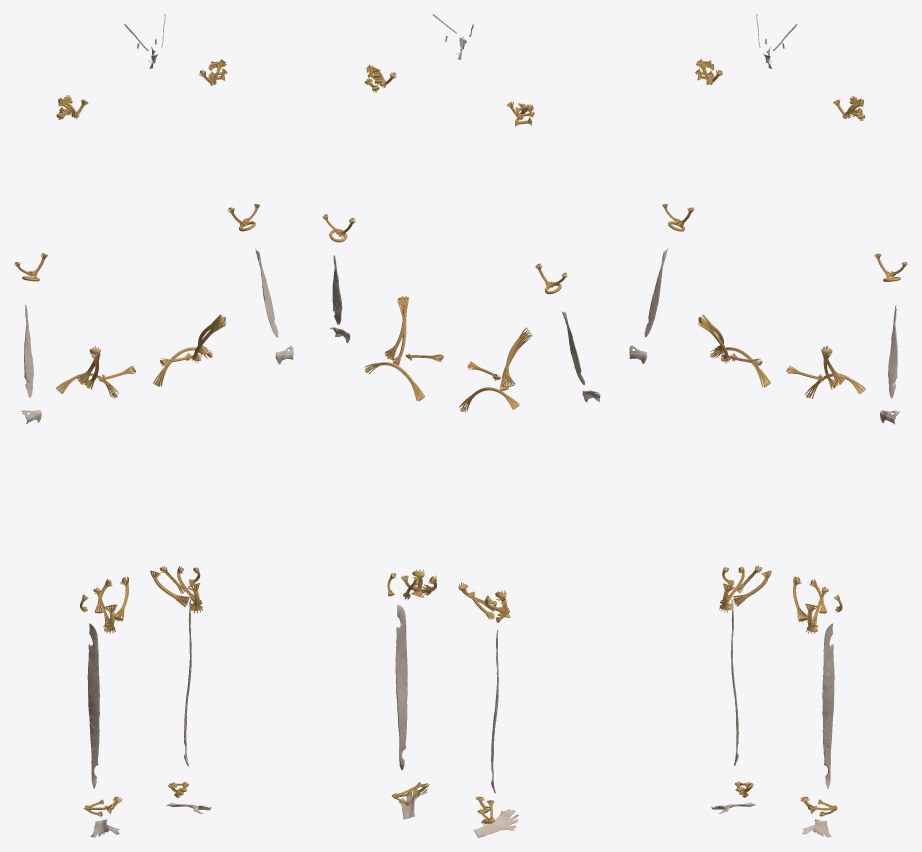
The model's file is ligaments.glb.
3 views of the same model, side by side, from view 1: azimuth 30°, elevation 25°; view 2: azimuth 150°, elevation 25°; view 3: azimuth 330°, elevation 25° (orthographic).
Parts seen in each view (by area): view 1: membrane-interosseuse-jambe-d, membrane-interosseuse-avant-bras-d; view 2: membrane-interosseuse-jambe-g, plantaire-long-d; view 3: membrane-interosseuse-jambe-g, membrane-interosseuse-avant-bras-g.
Part boxes in pixels (left/top/right/bottom): membrane-interosseuse-jambe-d: left=87, top=623, right=99, bottom=788; membrane-interosseuse-avant-bras-d: left=24, top=304, right=33, bottom=397; membrane-interosseuse-jambe-g: left=395, top=604, right=407, bottom=770; plantaire-long-d: left=474, top=809, right=518, bottom=837; membrane-interosseuse-jambe-g: left=822, top=623, right=834, bottom=788; membrane-interosseuse-avant-bras-g: left=888, top=304, right=897, bottom=397.
Bounding box in the file's own units: 0.5397 × 1.53 × 0.1034.
